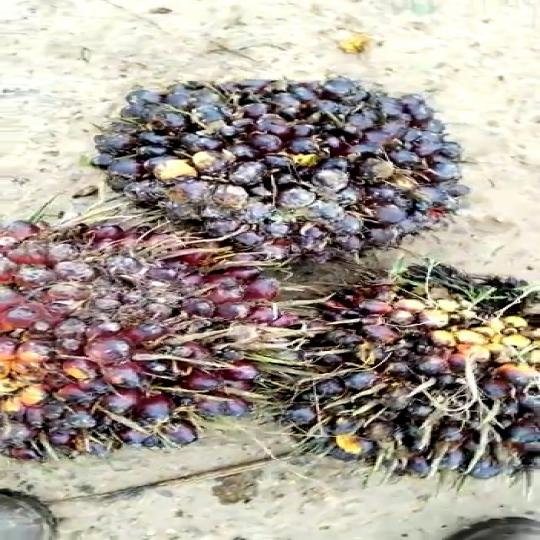kurang masak: (0, 216, 287, 482), (105, 65, 463, 262), (268, 248, 540, 497)
